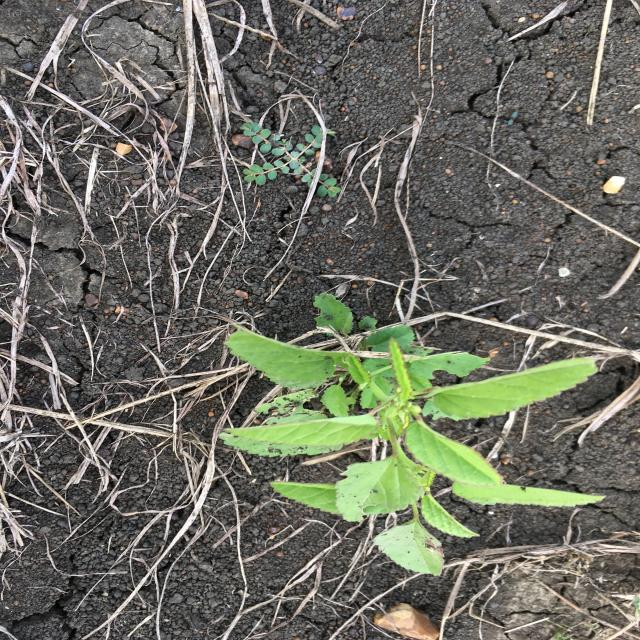PricklySida: (216, 290, 611, 580)
SpottedSpurge: (237, 118, 345, 201)
